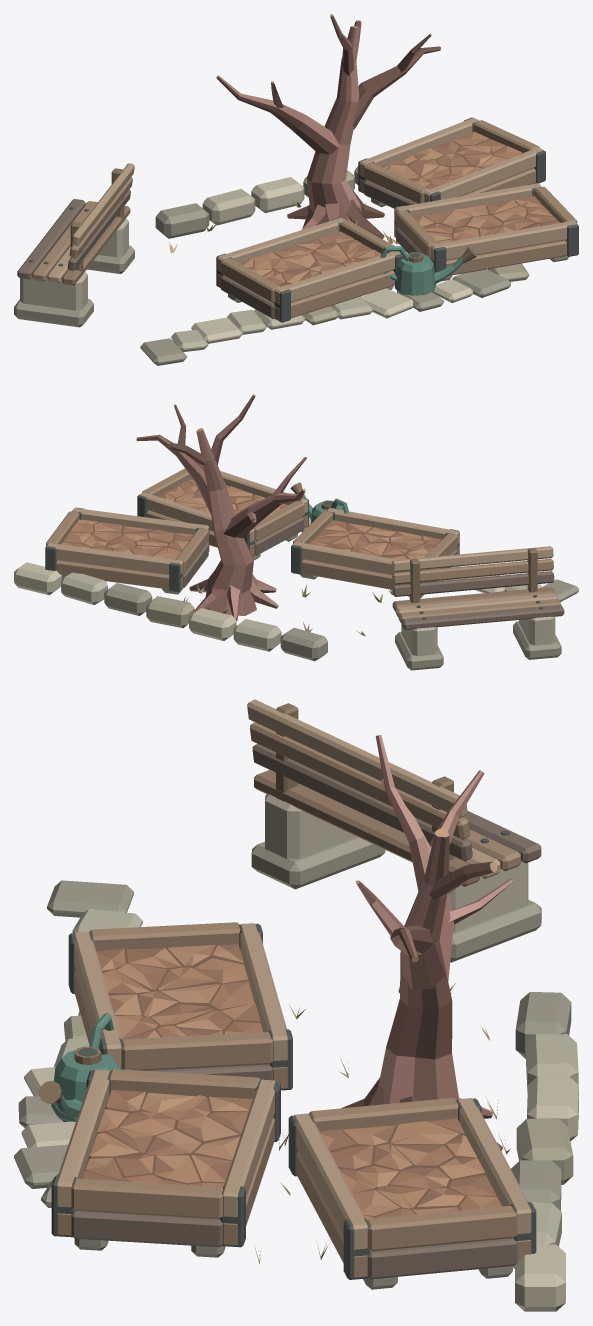
File: jardin_iris.glb
3 views of the same model, one above another, from view 1: azimuth 30°, elevation 25°; view 2: azimuth 150°, elevation 25°; view 3: azimuth 270°, elevation 25° (orthographic). The views are drawn at different scales.
Visible parts, largest first — view 1: DallesEtPierresDuJardin, BacOuest, BacEst, BacDuFond, BancIris, ArbreRoseMort, Arrosoir; view 2: BancIris, BacDuFond, ArbreRoseMort, DallesEtPierresDuJardin, BacOuest, BacEst, Arrosoir; view 3: BacDuFond, BacEst, BancIris, BacOuest, DallesEtPierresDuJardin, ArbreRoseMort, Arrosoir.
Boxes of the visible parts, left/top/right/bottom form: DallesEtPierresDuJardin: left=140, top=166, right=529, bottom=365; BacOuest: left=216, top=217, right=403, bottom=322; BacEst: left=394, top=182, right=578, bottom=281; BacDuFond: left=358, top=117, right=545, bottom=208; BancIris: left=14, top=163, right=134, bottom=327; ArbreRoseMort: left=216, top=14, right=440, bottom=238; Arrosoir: left=380, top=246, right=476, bottom=295; BancIris: left=391, top=546, right=564, bottom=670; BacDuFond: left=45, top=507, right=209, bottom=594; ArbreRoseMort: left=136, top=394, right=306, bottom=620; DallesEtPierresDuJardin: left=14, top=517, right=578, bottom=661; BacOuest: left=291, top=507, right=459, bottom=598; BacEst: left=137, top=464, right=308, bottom=560; Arrosoir: left=290, top=482, right=349, bottom=523; BacDuFond: left=288, top=1097, right=536, bottom=1289; BacEst: left=51, top=1069, right=280, bottom=1257; BancIris: left=247, top=699, right=541, bottom=962; BacOuest: left=68, top=922, right=292, bottom=1090; DallesEtPierresDuJardin: left=14, top=880, right=578, bottom=1311; ArbreRoseMort: left=341, top=735, right=513, bottom=1150; Arrosoir: left=38, top=1013, right=119, bottom=1121.
Bounding box in the file's own units: 8.38 × 3.38 × 4.32.
